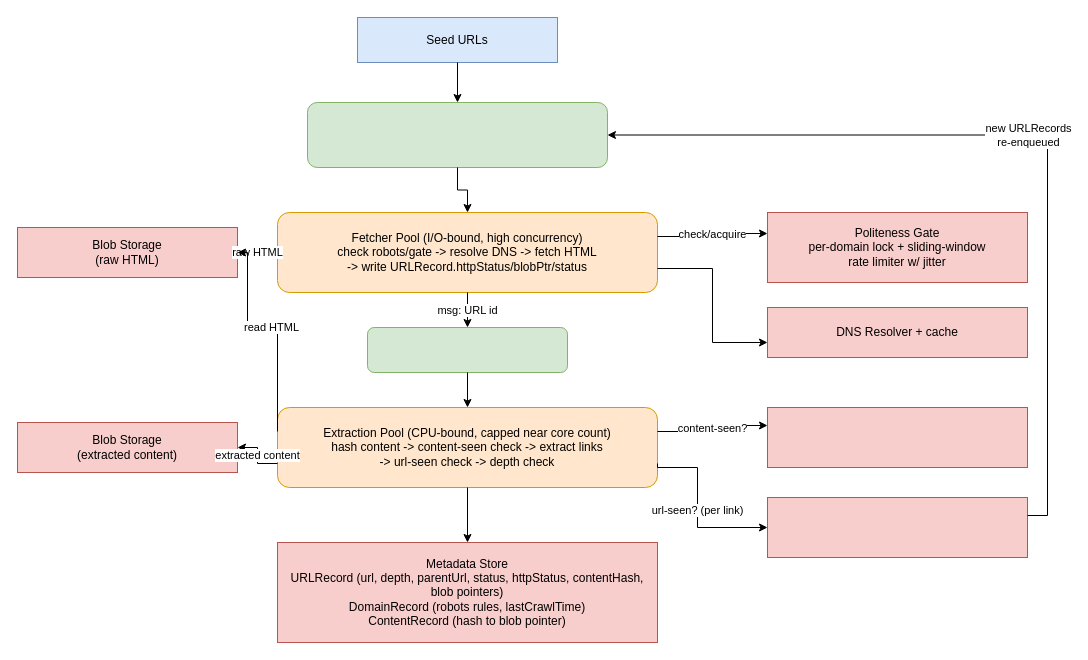
The diagram is 1088 pixels wide and 660 high, and some of its shapes have lost their labels. Here are the shapes that lost their labels. From the top down, the centre of each, then its label:
At (457,135): "Frontier Queue msg = URL id only; visibility-timeout + DLQ".
At (467,349): "Extraction Queue".
At (897,437): "Content-Seen? Check ContentRecord lookup by hash".
At (897,527): "URL-Seen? Check URLRecord lookup by url".
